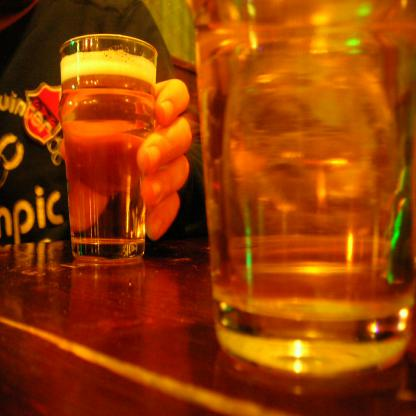drinking: (184, 0, 415, 375), (58, 33, 158, 263)
